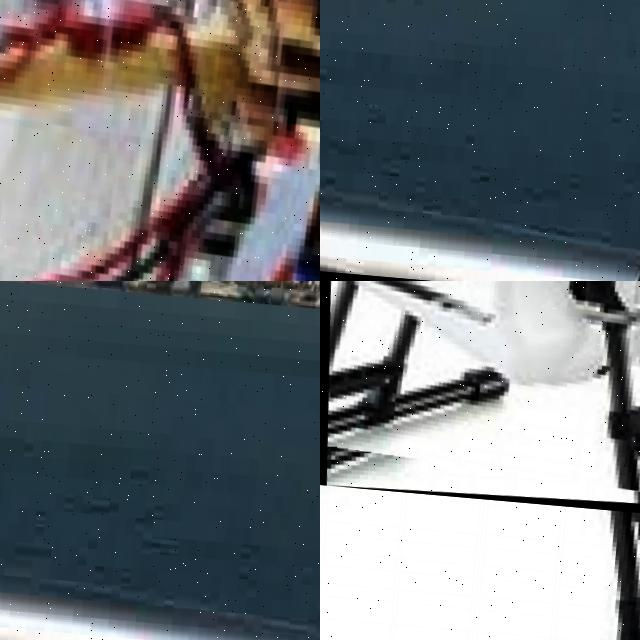drone: (0, 0, 320, 281), (320, 281, 640, 538)
